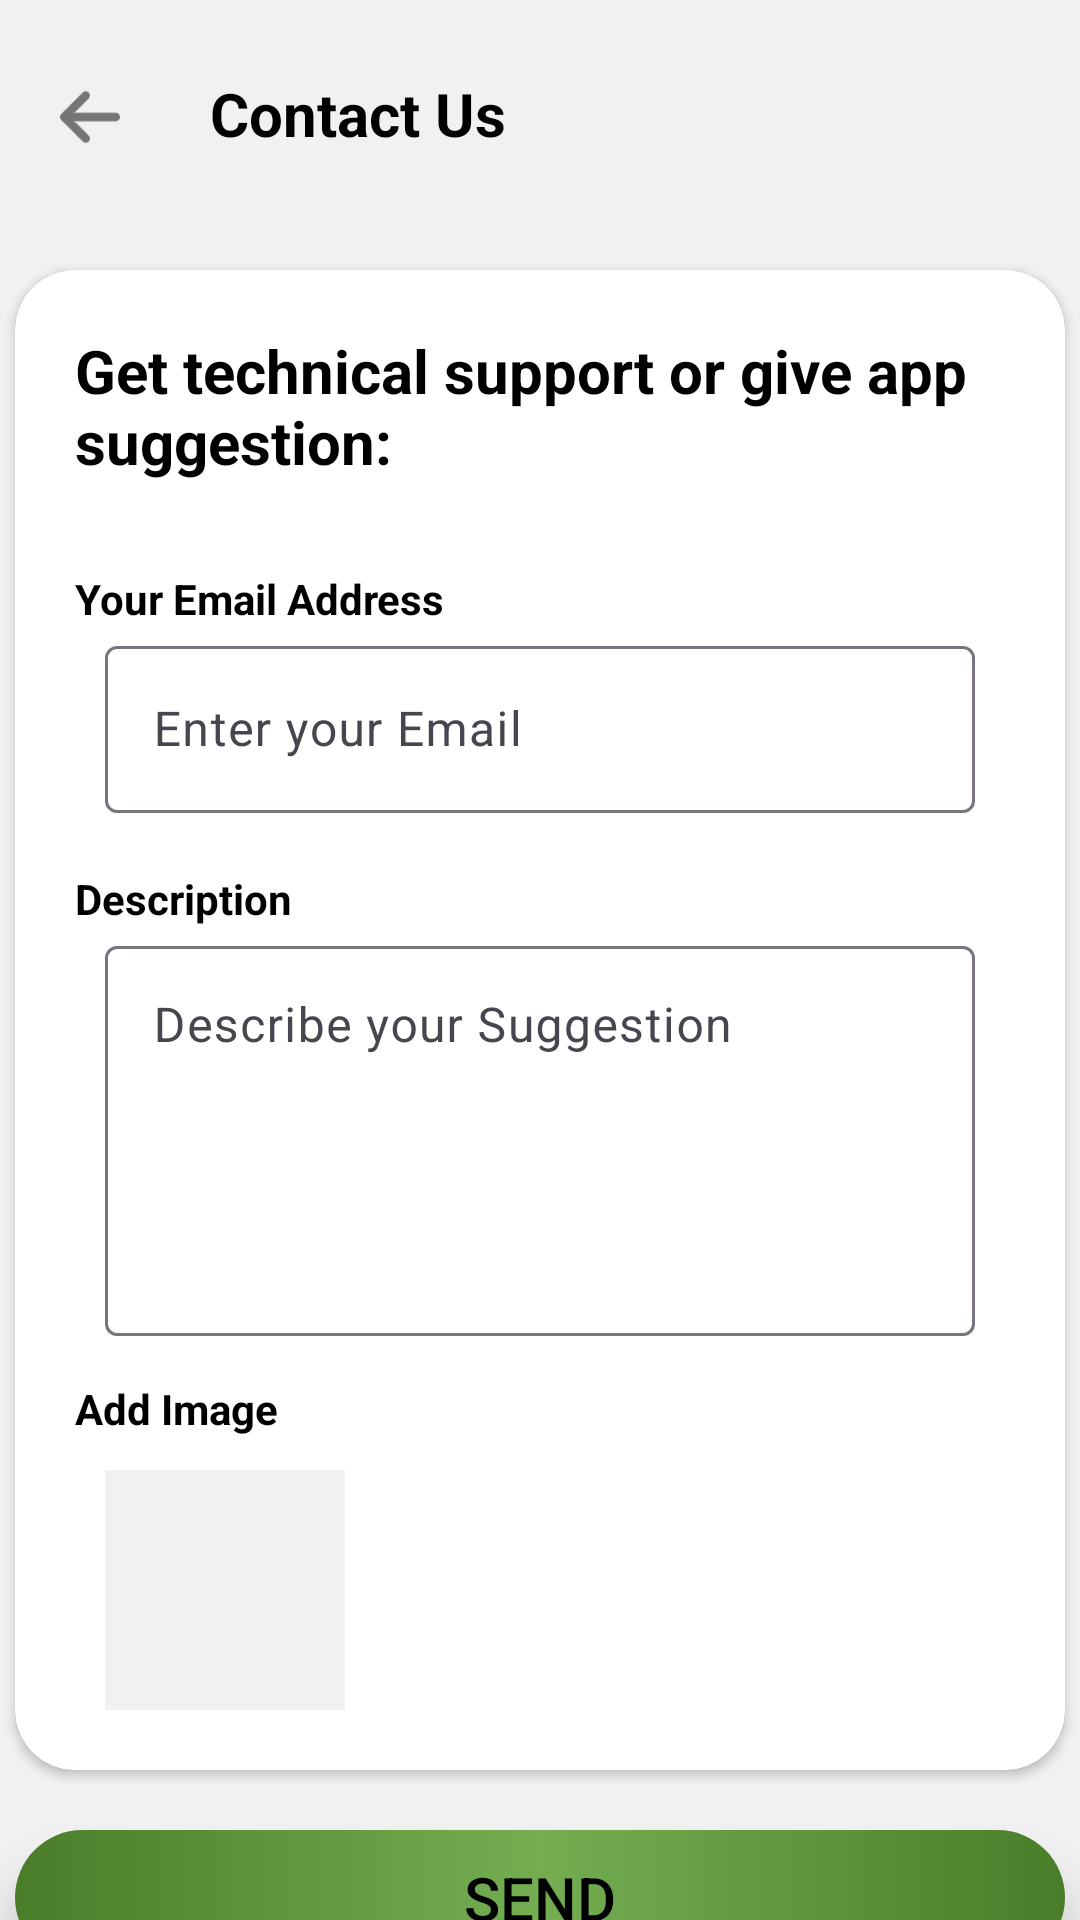

Icons on this 1080px x 1920px Android screen, each with the point to tap as [x,y]:
back arrow: [90,117]
